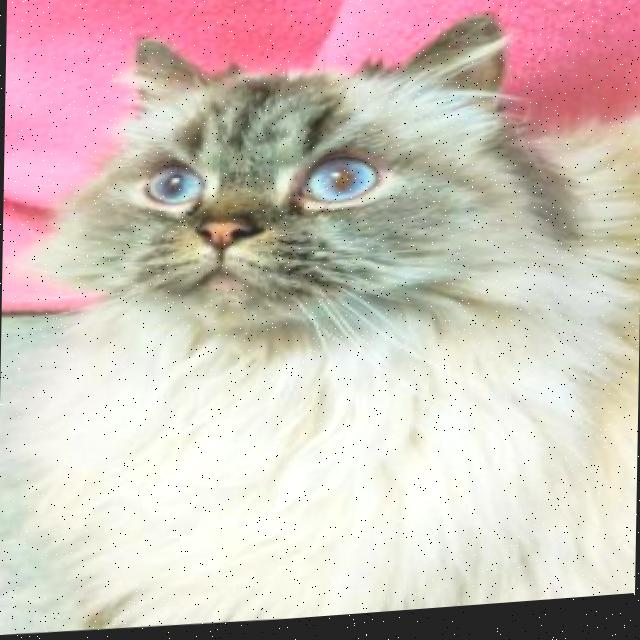Birman: (16, 0, 640, 639)
